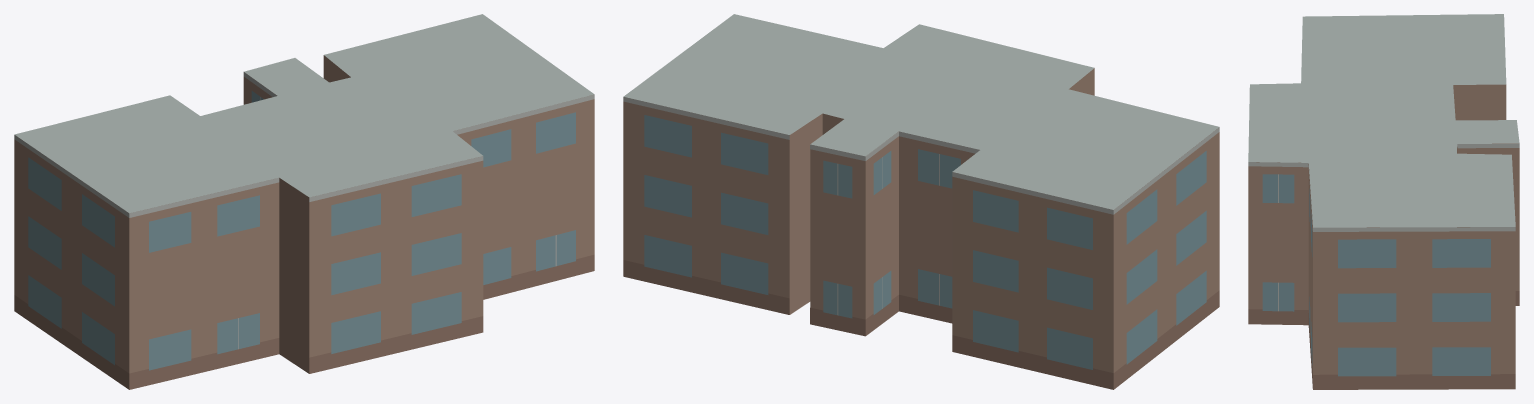
File: survey-upis-32762321.glb
The picture shows the model from 3 angles, left to right: view 1: azimuth 30°, elevation 25°; view 2: azimuth 150°, elevation 25°; view 3: azimuth 270°, elevation 25°; orthographic projection. The views are drawn at different scales.
Visible parts, largest first — view 1: survey-upis-32762321.tmp; view 2: survey-upis-32762321.tmp; view 3: survey-upis-32762321.tmp.
Boxes of the visible parts, x1,y1,x2,y2 form: survey-upis-32762321.tmp: [14, 14, 594, 389]; survey-upis-32762321.tmp: [623, 14, 1219, 389]; survey-upis-32762321.tmp: [1248, 14, 1519, 389].
Size of the model in its own units: 25.85 by 9.15 by 13.88.
